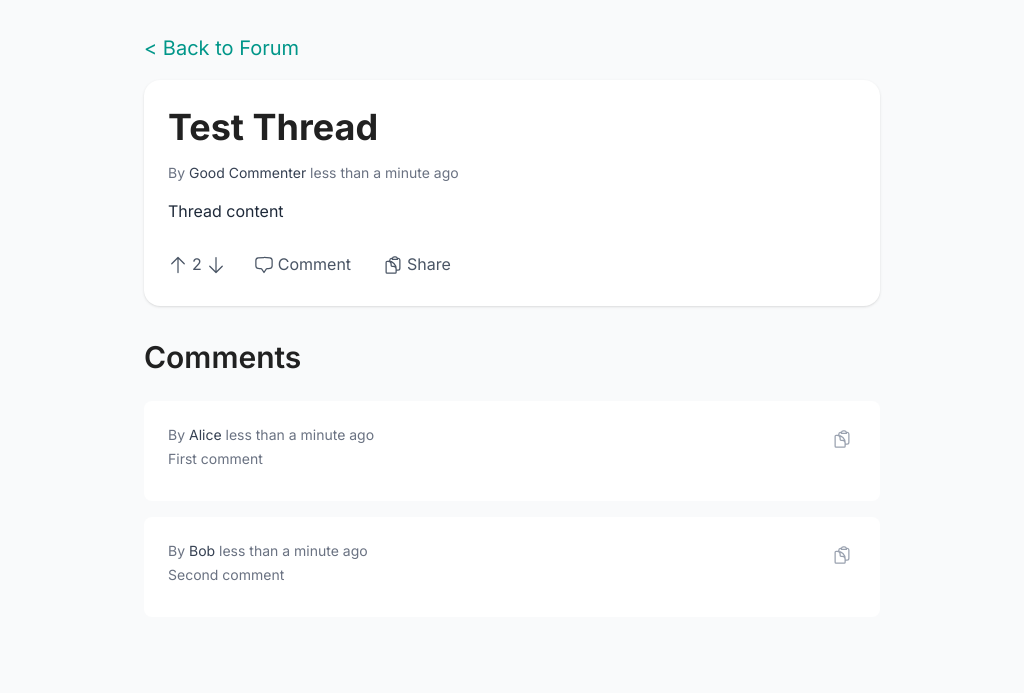
Test: ThreadDetail: UI test cases › validates empty comment form
Check: the heading "Test Thread" is shown, box [168,105,378,149]
Click the button with aria-label "add comment". click: click(302, 265)
box: [254,252,351,278]
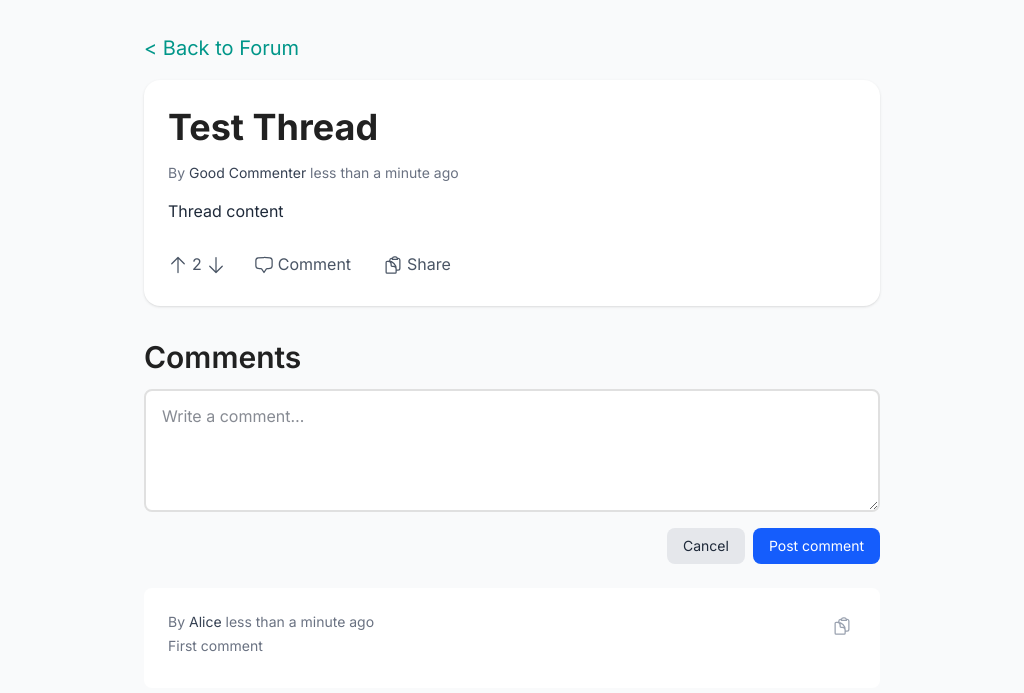
Click the button "Post comment". click: click(816, 546)
box: [753,528,880,564]
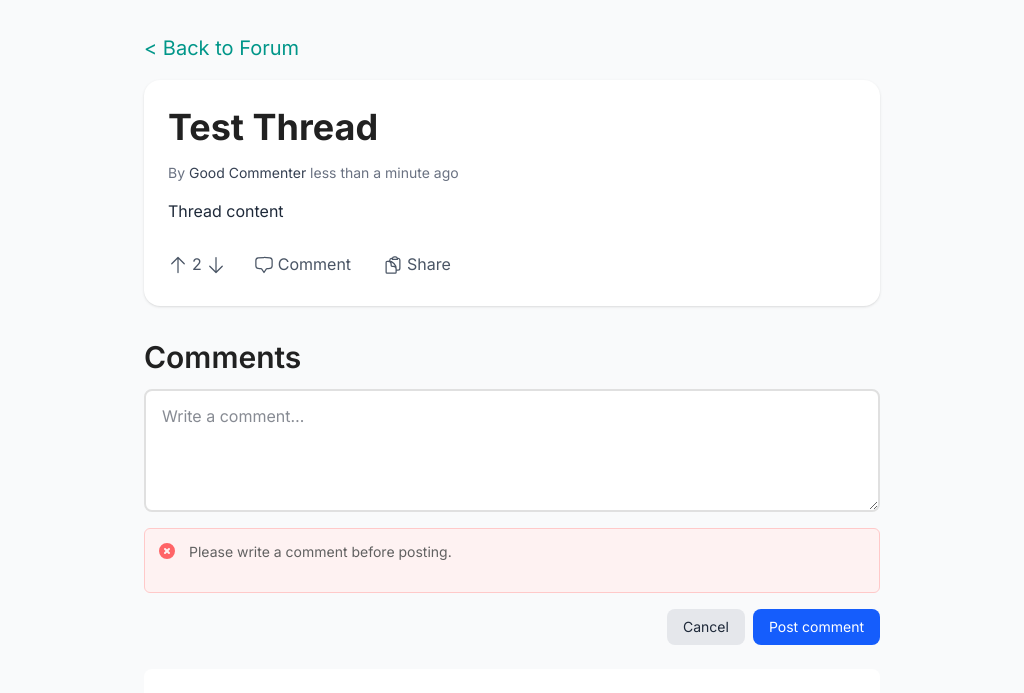
Check: the text "Please write a comment before posting." is shown, box [189,541,452,564]
